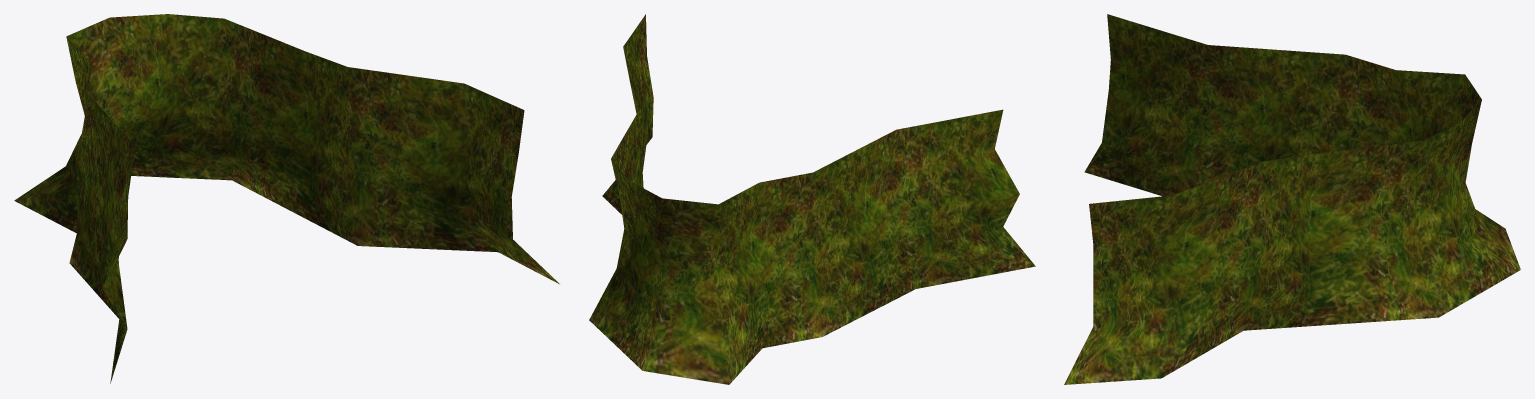
The model's file is TROLLHOLE02_RM_PSURF109.fbx.
The picture shows the model from 3 angles, left to right: view 1: azimuth 30°, elevation 25°; view 2: azimuth 150°, elevation 25°; view 3: azimuth 270°, elevation 25°; orthographic projection. The views are drawn at different scales.
Visible parts, largest first — view 1: TROLLHOLE02_RM_PSURF109; view 2: TROLLHOLE02_RM_PSURF109; view 3: TROLLHOLE02_RM_PSURF109.
Part boxes in pixels (<box>): TROLLHOLE02_RM_PSURF109: <box>14,14,559,383</box>; TROLLHOLE02_RM_PSURF109: <box>589,14,1035,384</box>; TROLLHOLE02_RM_PSURF109: <box>1064,14,1520,384</box>.
Bounding box in the file's own units: 80699 × 30000 × 73265.
Materials: 1 (1 with a texture image).
